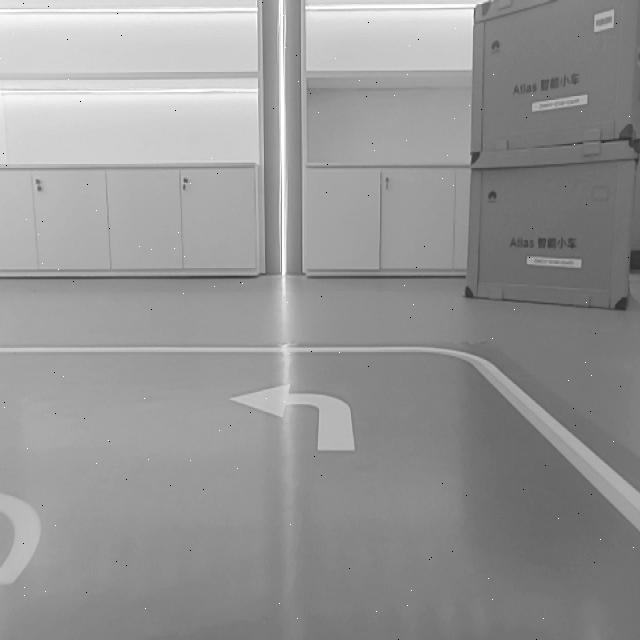right_lane: (464, 357, 640, 536)
